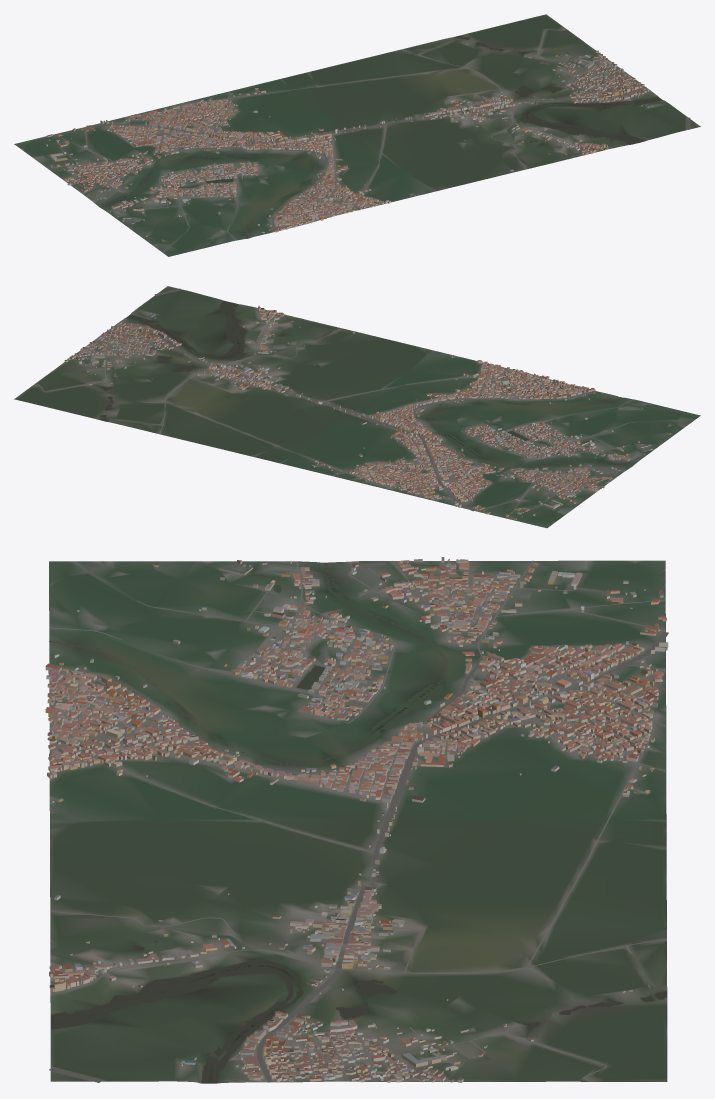
The picture shows the model from 3 angles, top to bottom: view 1: azimuth 30°, elevation 25°; view 2: azimuth 150°, elevation 25°; view 3: azimuth 270°, elevation 25°; orthographic projection. The views are drawn at different scales.
Parts seen in each view (by area): view 1: ground, buildings, roads, water; view 2: ground, buildings, roads, water; view 3: ground, buildings, roads, water.
Boxes of the visible parts, x1,y1,x2,y2 form: ground: [14, 14, 700, 256]; buildings: [46, 42, 652, 239]; roads: [47, 28, 690, 240]; water: [99, 35, 662, 238]; ground: [14, 286, 700, 528]; buildings: [64, 305, 671, 519]; roads: [33, 288, 641, 518]; water: [99, 300, 631, 467]; ground: [49, 560, 667, 1083]; buildings: [45, 557, 668, 1082]; roads: [49, 560, 668, 1082]; water: [49, 563, 666, 1082].
Size of the model in its own units: 2815 by 27.32 by 1418.
